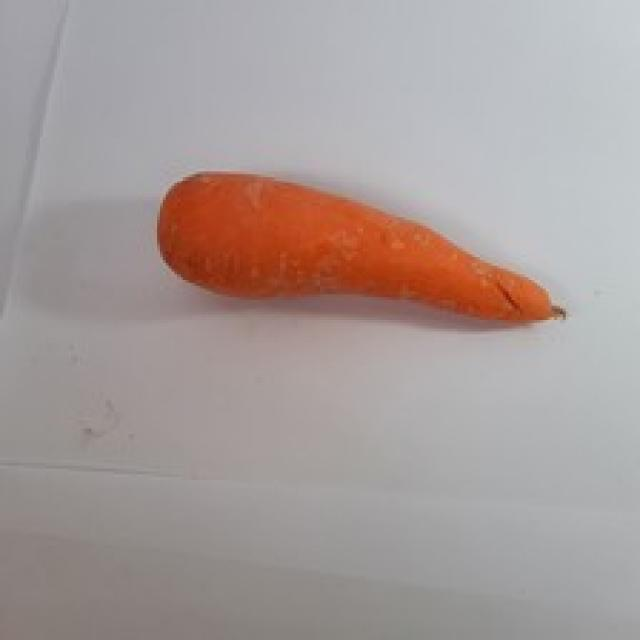carrot: (159, 172, 552, 324)
